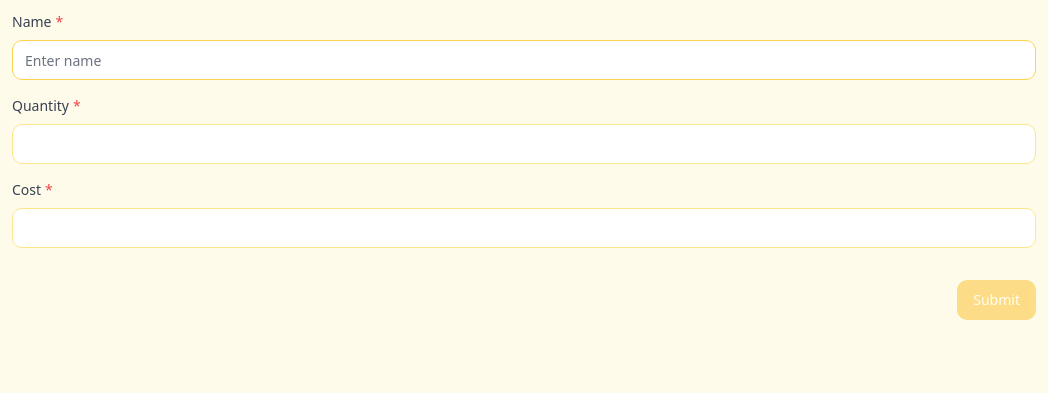
Test: ValidatedForm › shows validation errors for invalid inputs
This screenshot has width=1048, height=393.
// Test zero quantity validation
In the number field labelled "Quantity*": x=524, y=144 [12,124,1036,164], type "0"
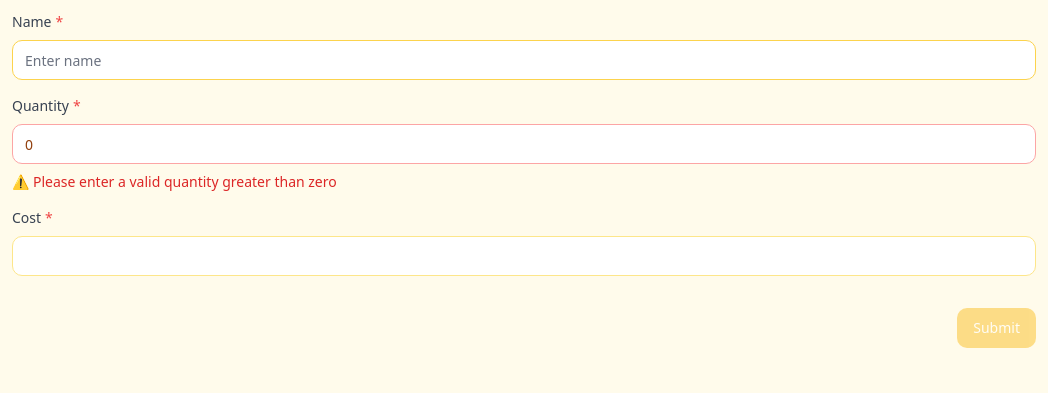
// Test zero cost validation
In the number field labelled "Cost*": x=524, y=256 [12,236,1036,276], type "0"
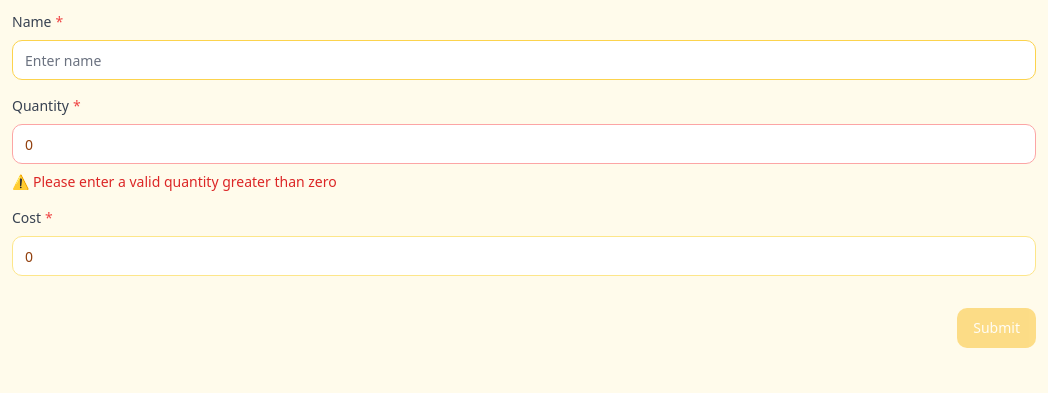
Leave the number field labelled "Cost*", box [12,236,1036,276]
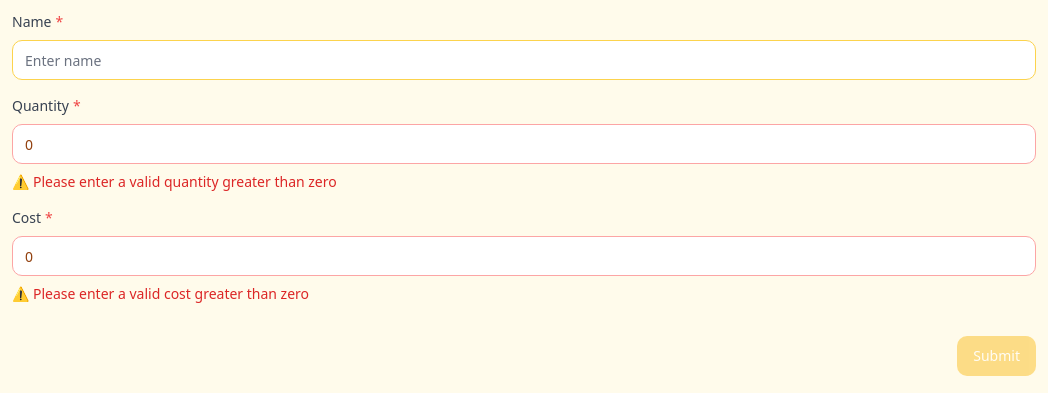
Now the text "⚠ Please enter a valid quantity greater than zero" is shown, box [12,172,337,191]
Now the text "⚠ Please enter a valid cost greater than zero" is shown, box [12,284,309,303]
